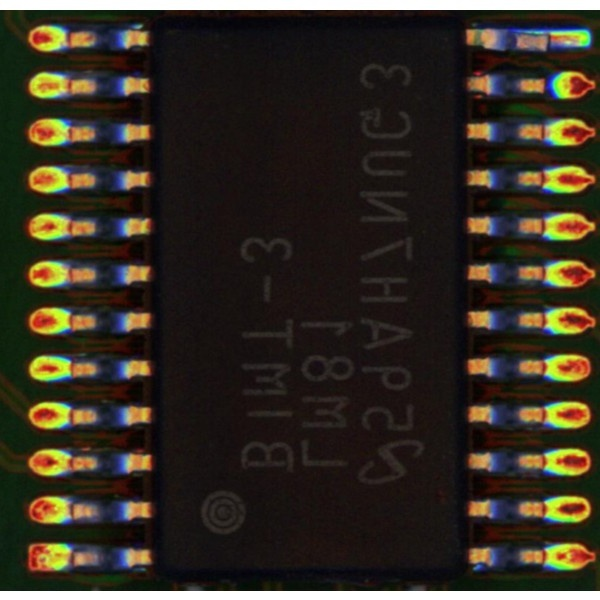Bad_podu: (532, 34, 568, 47)
Bad_qiaojiao: (513, 29, 549, 35)
